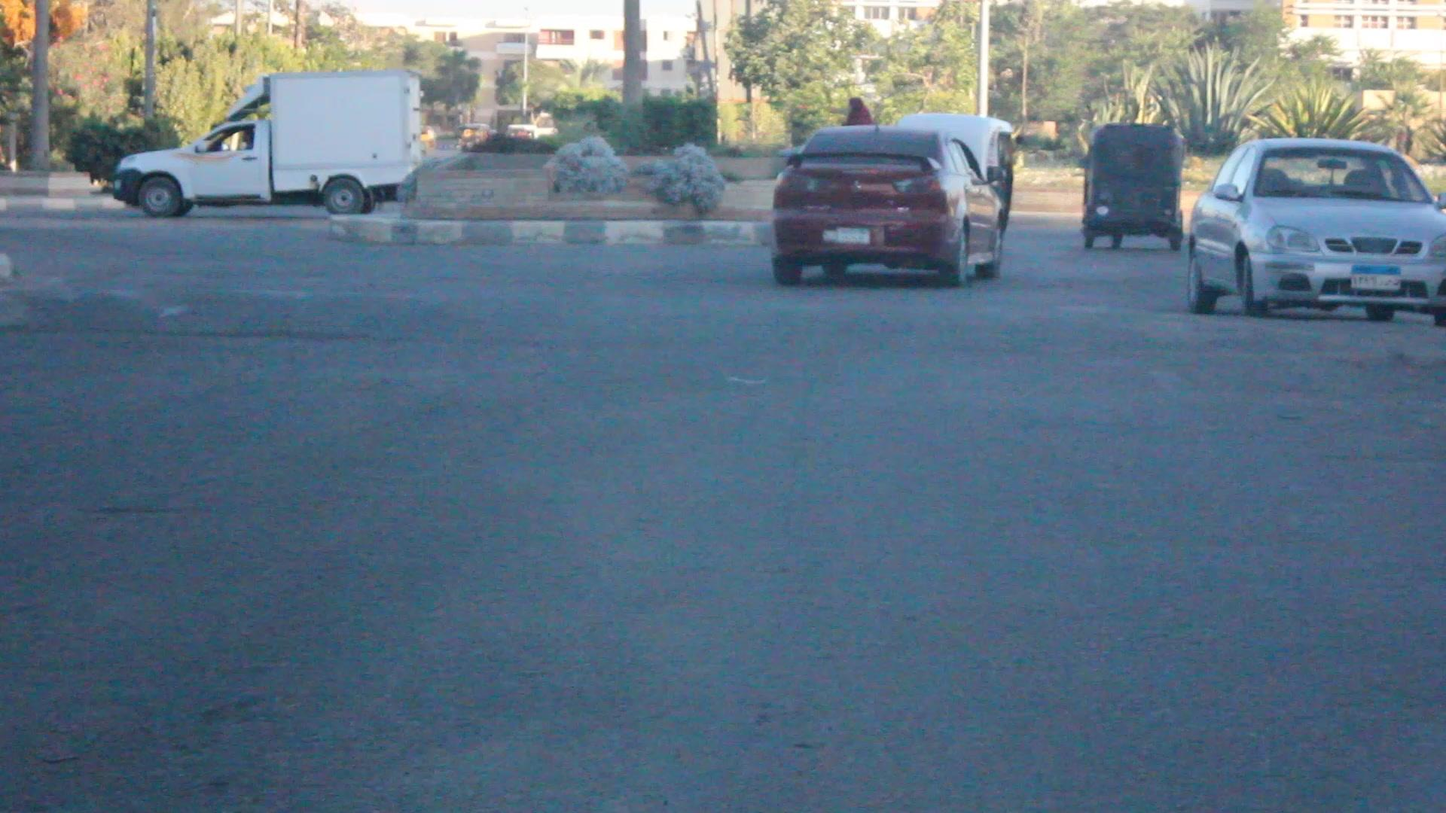Bump: (0, 279, 1445, 367)
